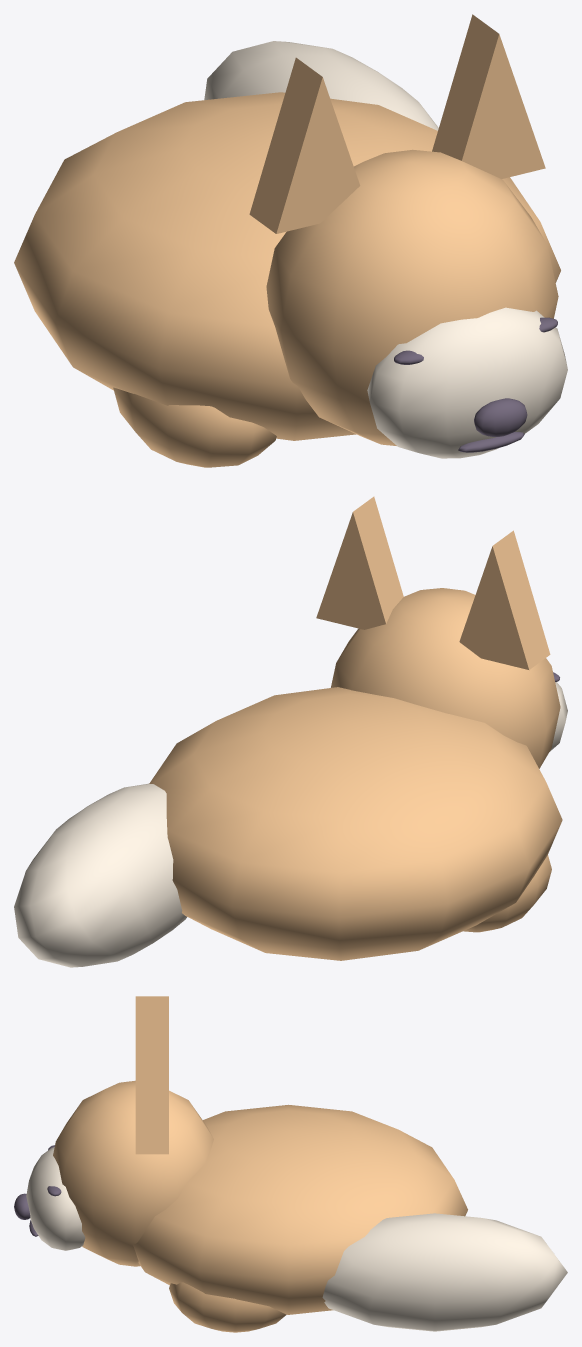
Rendered from fox-reflection.glb.
3 renders of one model, top to bottom at view 1: azimuth 30°, elevation 25°; view 2: azimuth 150°, elevation 25°; view 3: azimuth 270°, elevation 25°, orthographic. The views are drawn at different scales.
Visible parts, largest first — view 1: fox reflection offline illustration; view 2: fox reflection offline illustration; view 3: fox reflection offline illustration.
Boxes of the visible parts, left/top/right/bottom form: fox reflection offline illustration: left=14, top=14, right=567, bottom=467; fox reflection offline illustration: left=14, top=496, right=567, bottom=967; fox reflection offline illustration: left=14, top=996, right=567, bottom=1332.
Size of the model in its own units: 0.5195 by 0.44 by 0.833.
